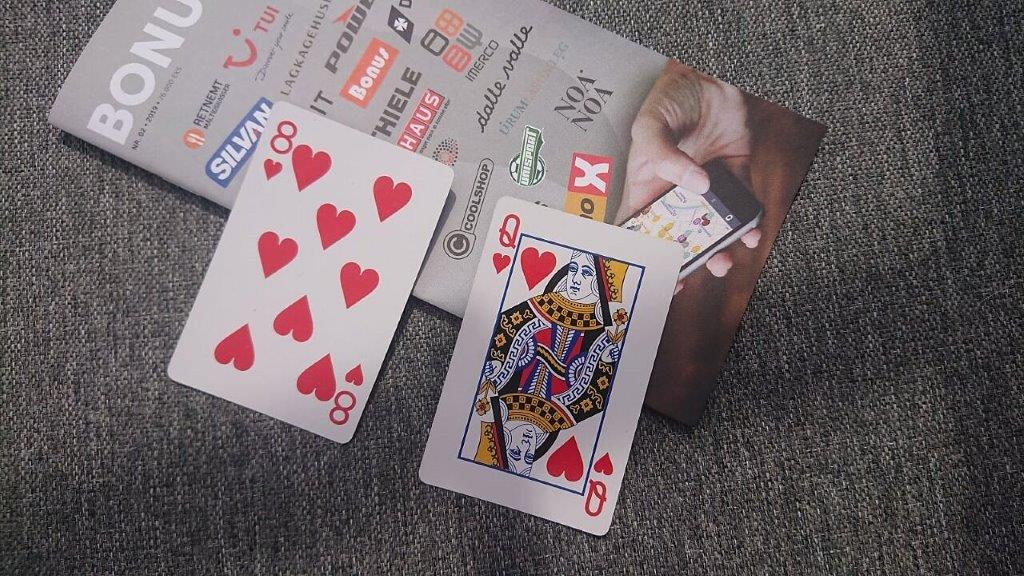8H: (260, 117, 300, 186)
QH: (487, 210, 525, 278)
